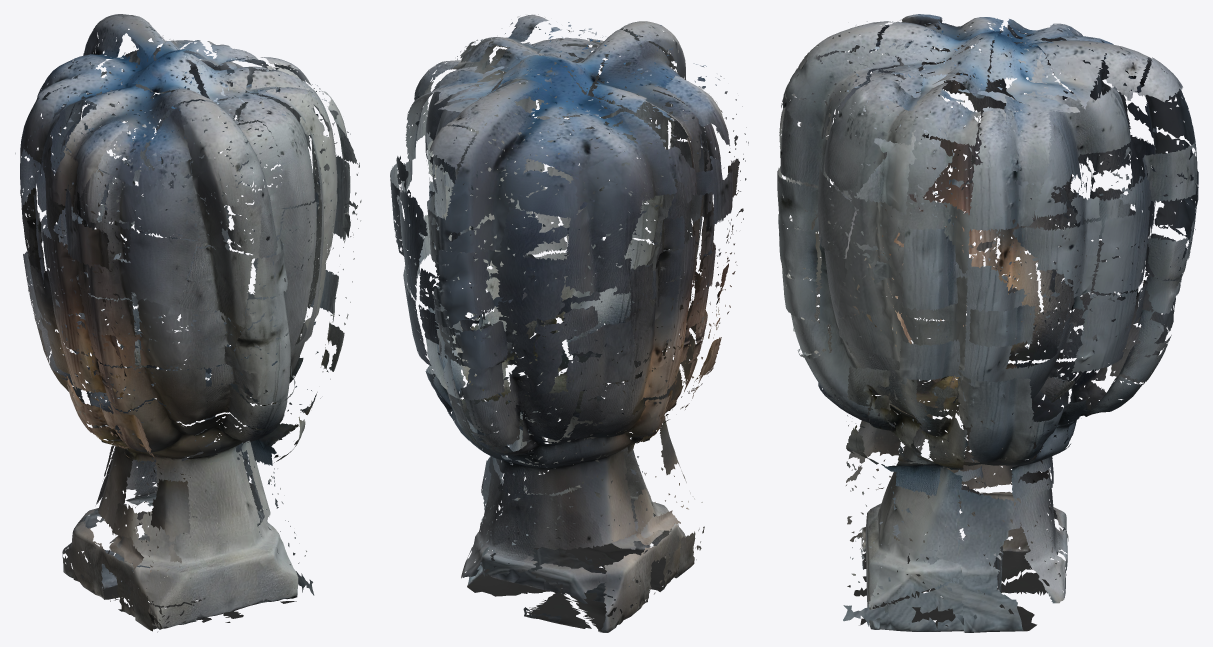
Rendered from burma.glb.
3 renders of one model, left to right at view 1: azimuth 30°, elevation 25°; view 2: azimuth 150°, elevation 25°; view 3: azimuth 270°, elevation 25°, orthographic. The views are drawn at different scales.
Visible parts, largest first — view 1: Object_6, Object_5, Object_4, Object_7; view 2: Object_5, Object_4, Object_6, Object_7; view 3: Object_5, Object_4, Object_6, Object_7.
Part boxes in pixels (x1,y1,x2,y2): Object_6: (15, 14, 325, 627); Object_5: (20, 36, 337, 568); Object_4: (22, 15, 329, 629); Object_7: (46, 35, 361, 632); Object_5: (390, 37, 712, 628); Object_4: (396, 21, 720, 632); Object_6: (400, 29, 714, 573); Object_7: (425, 14, 748, 607); Object_5: (777, 24, 1198, 632); Object_4: (778, 17, 1197, 607); Object_6: (780, 18, 1195, 631); Object_7: (843, 14, 1132, 626).
Bounding box in the file's own units: 34004 × 62282 × 42352.
Materials: 1 (1 with a texture image).
